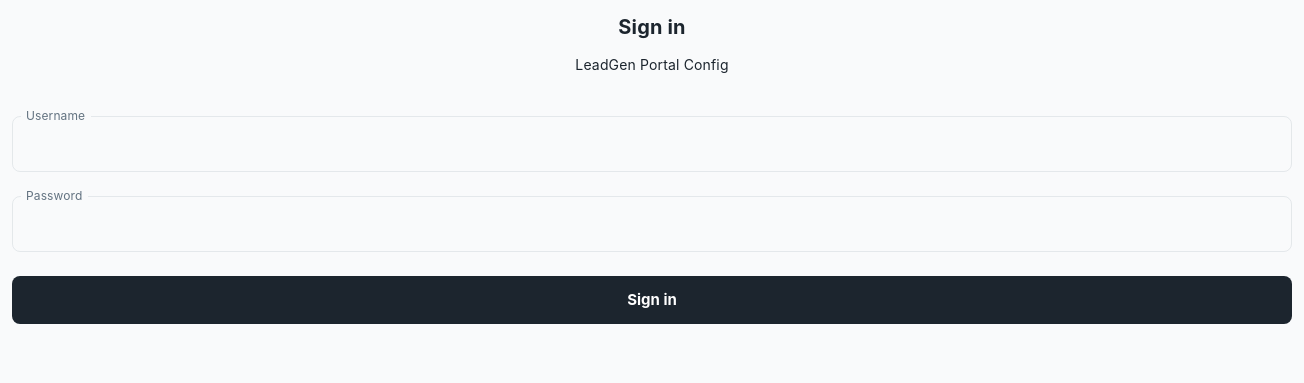
Test: SignInView › blocks submission and shows field errors when empty
Click the button "Sign in".
click(652, 300)  # box x1=12 y1=276 x2=1292 y2=324
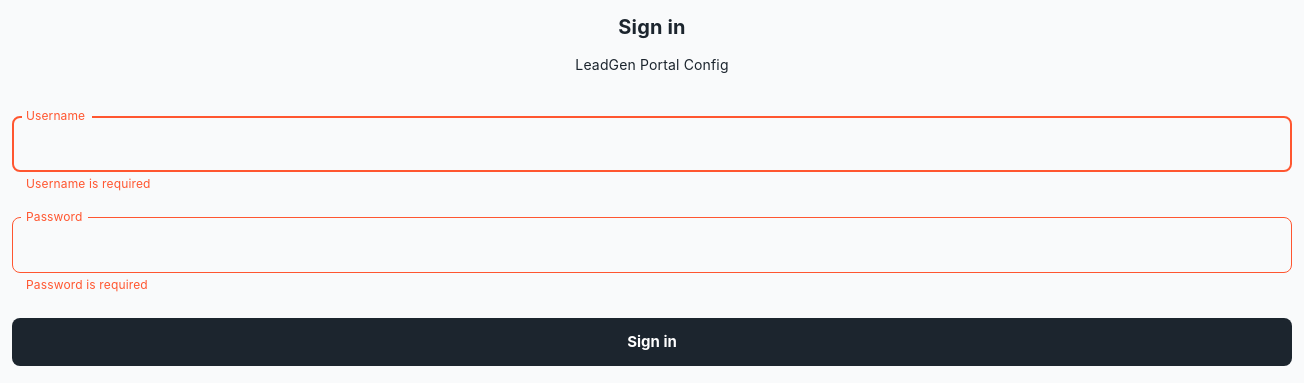
Result: the text "Username is required" is shown at x1=26 y1=176 x2=151 y2=191
Result: the text "Password is required" is shown at x1=26 y1=277 x2=148 y2=292
